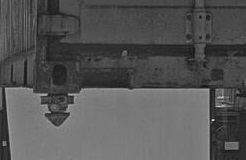twist_lock_2: (35, 87, 81, 130)
